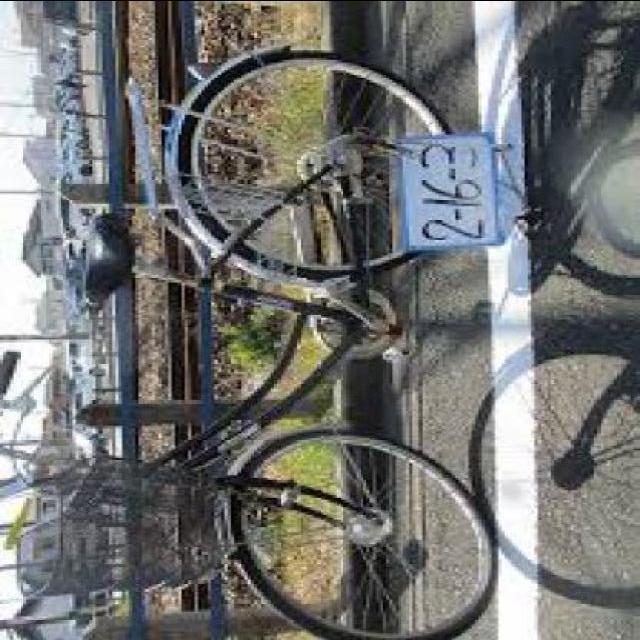bicycle: (1, 35, 527, 637)
